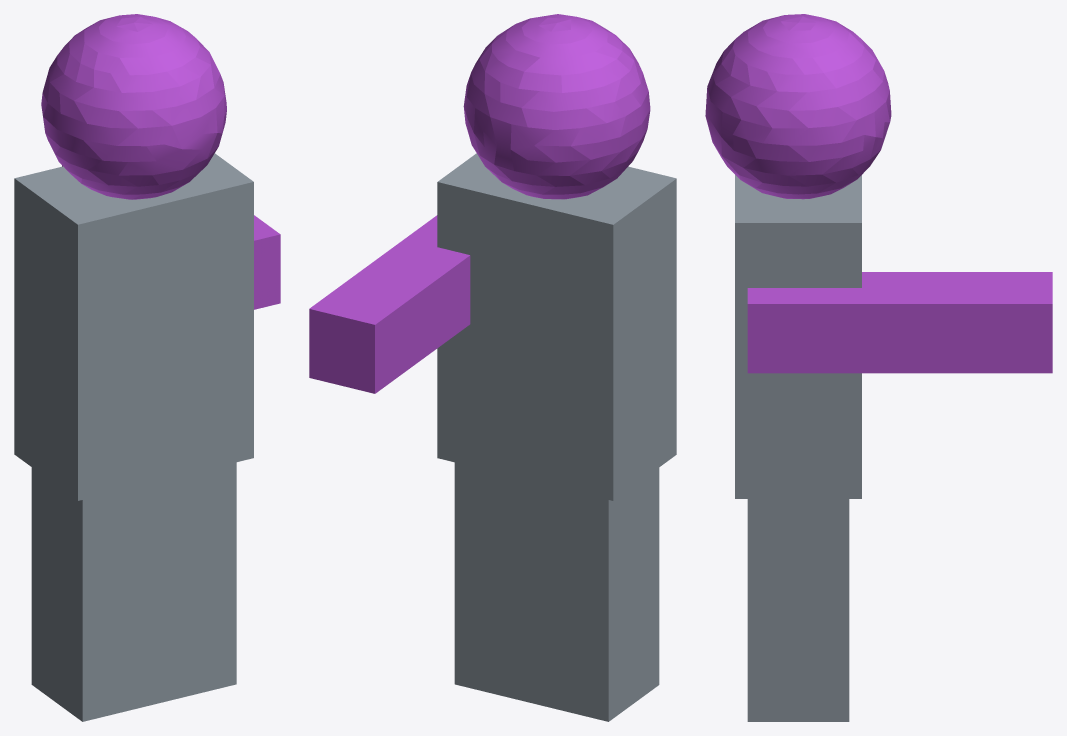
File: CH_ResonanceRifleman_LOD1.glb
The picture shows the model from 3 angles, left to right: view 1: azimuth 30°, elevation 25°; view 2: azimuth 150°, elevation 25°; view 3: azimuth 270°, elevation 25°; orthographic projection.
Parts seen in each view (by area): view 1: Head; view 2: Head; view 3: Head.
Part boxes in pixels (<box>): Head: <box>14,14,280,721</box>; Head: <box>309,14,676,721</box>; Head: <box>705,14,1052,721</box>.
Size of the model in its own units: 57 by 172 by 81.99.
